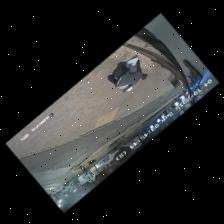person: (107, 60, 146, 91)
